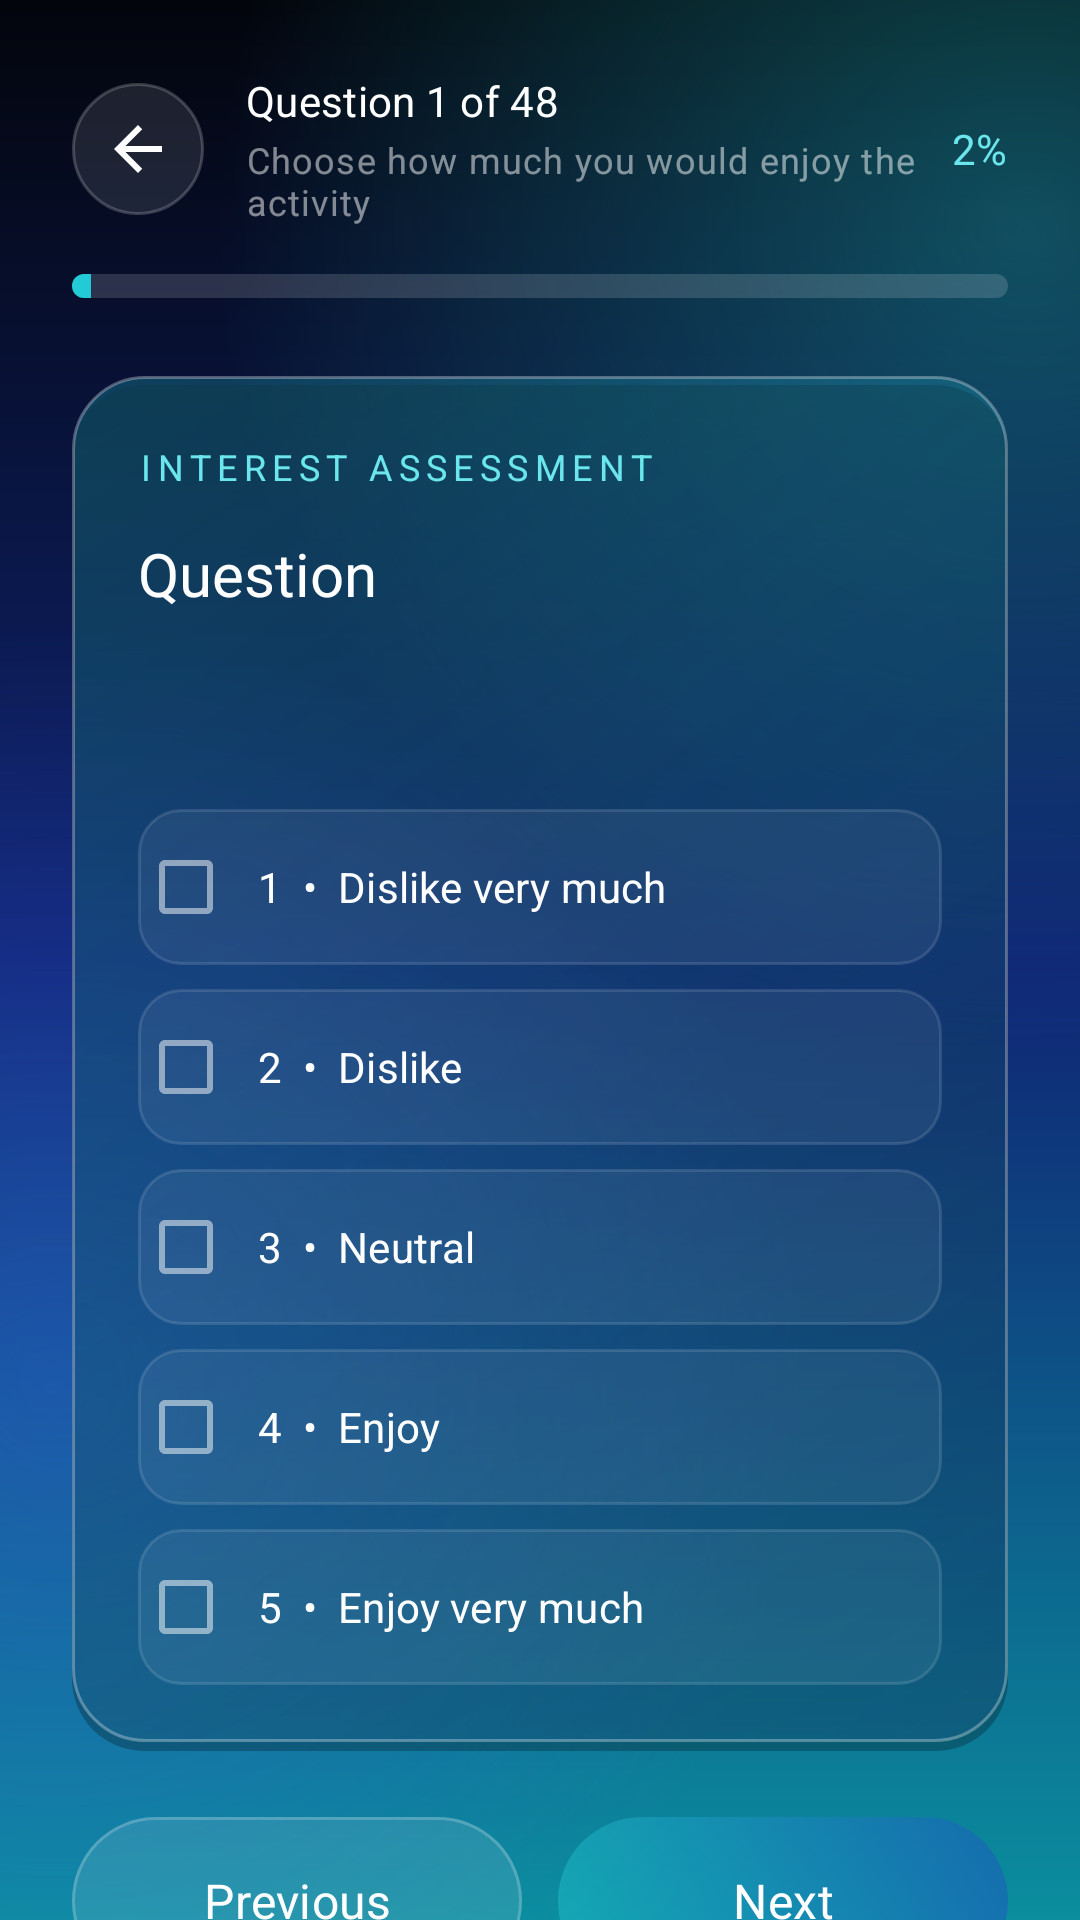

Icon click points for this 1080w x 1920h phone screenshot, format (x,y):
Back: (138,149)
